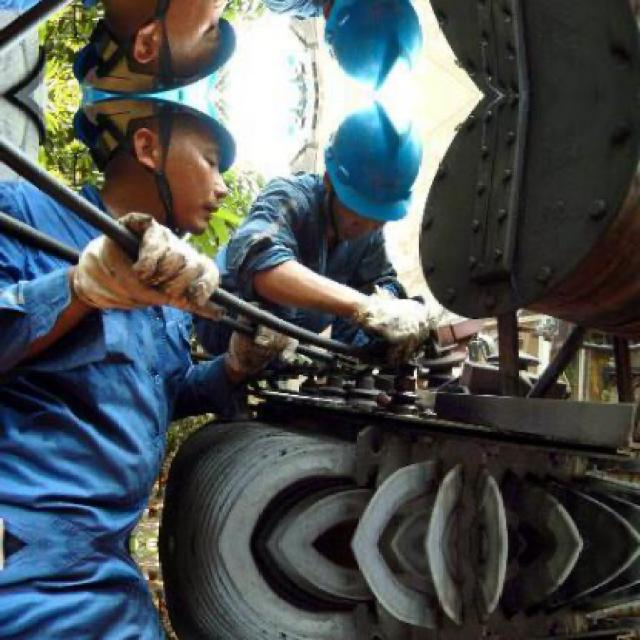helmet: (92, 99, 260, 239), (315, 98, 428, 240), (92, 0, 262, 94), (316, 0, 430, 94)
